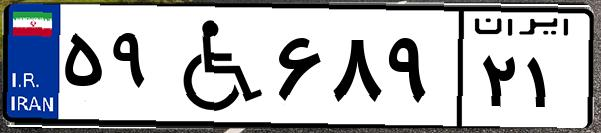1: (525, 38, 570, 115)
2: (475, 38, 525, 113)
5: (57, 26, 110, 100)
6: (270, 28, 330, 110)
8: (330, 28, 385, 110)
9: (385, 28, 445, 110), (110, 28, 158, 98)
ژ (معلولین و جانبازان): (158, 12, 270, 120)
